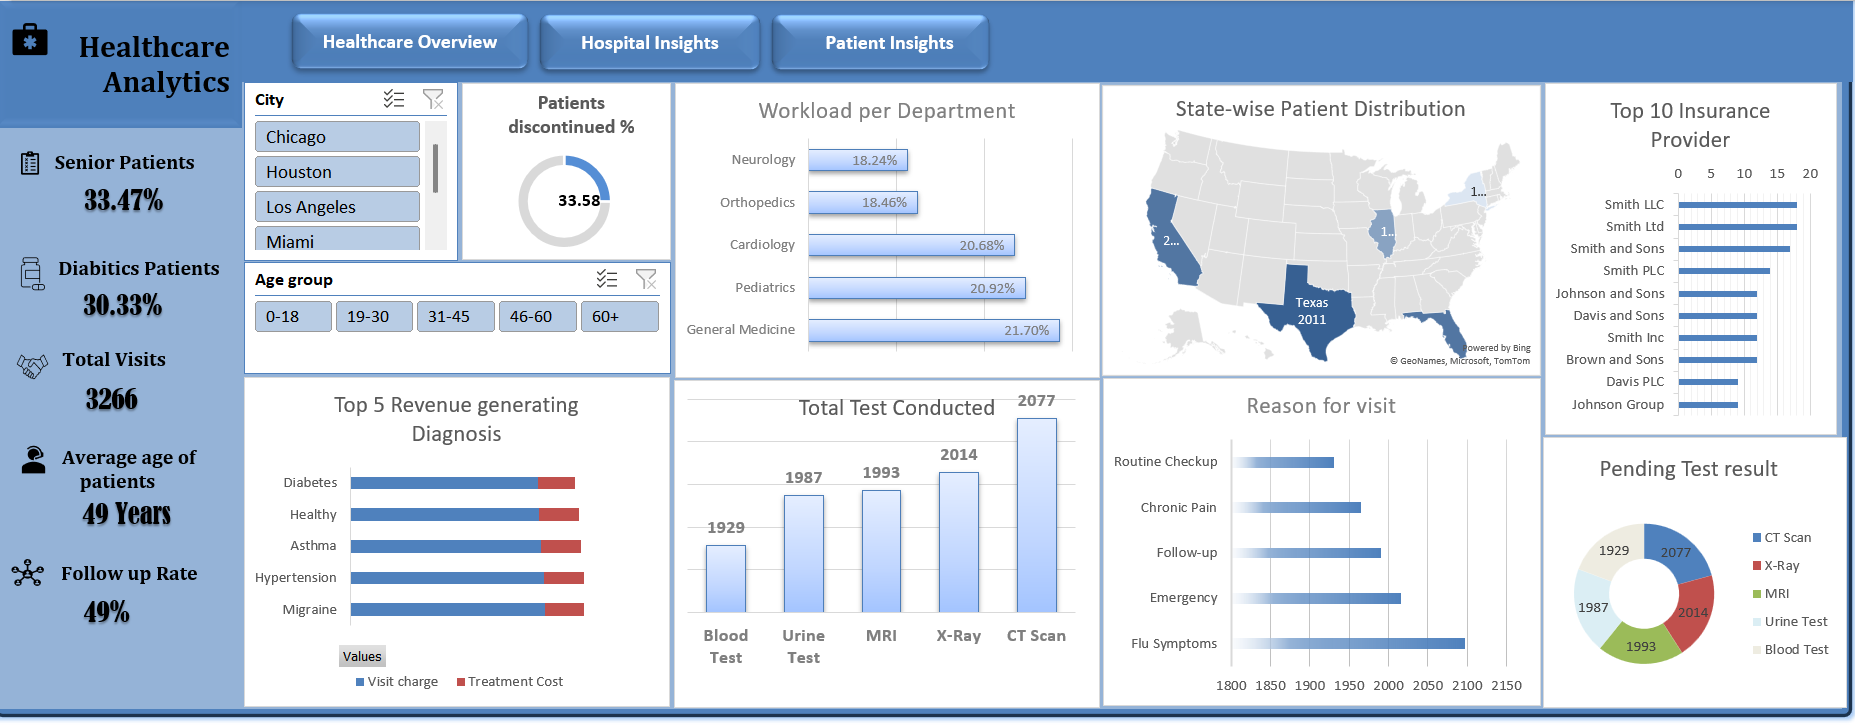

This screenshot's page, from the dashboard's own definition file:
{"tool":"tableau","page":{"name":"Dashboard 1","canvas":[1000,1000],"units":"permille","ordinal":0},"visuals":[{"type":"text","box":[5.5,10.7,883.4,111.1]},{"type":"legend","title":"MAP","param":"[federated.1ikifzs1liogo21338sql1d696tb].[__tableau_internal_object_id__].[cnt:P","box":[889,10.7,105.5,108.4]},{"type":"filter","title":"KPI1","param":"[federated.1ikifzs1liogo21338sql1d696tb].[none:Gender:nk]","box":[889,119.1,105.5,196.3]},{"type":"worksheet","title":"KPI1","mark":"Automatic","box":[5.5,121.8,144.9,166]},{"type":"worksheet","title":"KPI2","mark":"Automatic","box":[150.4,121.8,147.7,166]},{"type":"worksheet","title":"KPI7","mark":"Automatic","box":[298.1,121.8,204.6,166]},{"type":"worksheet","title":"KPI8","mark":"Automatic","box":[502.7,121.8,165.4,166]},{"type":"worksheet","title":"KPI11","mark":"Text","box":[668.1,121.8,220.9,166]},{"type":"worksheet","title":"KPI3","mark":"Automatic","box":[5.5,287.8,144.9,119.1]},{"type":"worksheet","title":"KPI4","mark":"Automatic","box":[150.4,287.8,147.7,119.1]},{"type":"worksheet","title":"KPI9","mark":"Automatic","box":[298.1,287.8,204.6,119.1]},{"type":"worksheet","title":"KPI10","mark":"Automatic","box":[502.7,287.8,165.4,119.1]},{"type":"worksheet","title":"KPI6","mark":"Automatic","box":[668.1,287.8,220.9,119.1]},{"type":"filter","title":"KPI1","param":"[federated.1ikifzs1liogo21338sql1d696tb].[none:Diagnosis:nk]","box":[889,315.5,105.5,196.3]},{"type":"worksheet","title":"MAP","mark":"Circle","box":[5.5,406.9,441.7,582.3]},{"type":"worksheet","title":"KPI5","mark":"Bar","rows":["Diagnosis"],"cols":["Visit_A0C1A3FACFD44D14B533A1258C208FB1"],"box":[447.2,406.9,441.7,342.7]},{"type":"filter","title":"KPI1","param":"[federated.1ikifzs1liogo21338sql1d696tb].[none:State:nk]","box":[889,511.8,105.5,196.3]},{"type":"filter","title":"KPI1","param":"[federated.1ikifzs1liogo21338sql1d696tb].[none:Visit Date:nk]","box":[889,708.2,105.5,93.7]},{"type":"worksheet","title":"KPI13","mark":"Automatic","box":[447.2,749.7,441.7,119.8]},{"type":"filter","title":"KPI1","param":"[federated.1ikifzs1liogo21338sql1d696tb].[none:Doctor Name:nk]","box":[889,801.9,105.5,93.7]},{"type":"worksheet","title":"KPI 14","mark":"Text","box":[447.2,869.5,441.7,119.8]},{"type":"filter","title":"KPI 14","param":"[federated.1ikifzs1liogo21338sql1d696tb].[none:Patient ID (Patient):ok]","box":[889,895.6,105.5,93.7]}]}

Visuals, with their boxes on the dashboard's canvas, which has no fixed pixel size, in thousandths of its width and height (x1, y1, x2, y2). These are canvas units, not pixel positions in the 1855x727 screenshot, which may show the page scaled, cropped or inside an application window:
text: rect(6, 11, 889, 122)
"MAP" legend: rect(889, 11, 994, 119)
"KPI1" filter: rect(889, 119, 994, 315)
"KPI1" worksheet: rect(6, 122, 150, 288)
"KPI2" worksheet: rect(150, 122, 298, 288)
"KPI7" worksheet: rect(298, 122, 503, 288)
"KPI8" worksheet: rect(503, 122, 668, 288)
"KPI11" worksheet (Text marks): rect(668, 122, 889, 288)
"KPI3" worksheet: rect(6, 288, 150, 407)
"KPI4" worksheet: rect(150, 288, 298, 407)
"KPI9" worksheet: rect(298, 288, 503, 407)
"KPI10" worksheet: rect(503, 288, 668, 407)
"KPI6" worksheet: rect(668, 288, 889, 407)
"KPI1" filter: rect(889, 316, 994, 512)
"MAP" worksheet (Circle marks): rect(6, 407, 447, 989)
"KPI5" worksheet (Bar marks): rect(447, 407, 889, 750)
"KPI1" filter: rect(889, 512, 994, 708)
"KPI1" filter: rect(889, 708, 994, 802)
"KPI13" worksheet: rect(447, 750, 889, 870)
"KPI1" filter: rect(889, 802, 994, 896)
"KPI 14" worksheet (Text marks): rect(447, 870, 889, 989)
"KPI 14" filter: rect(889, 896, 994, 989)
